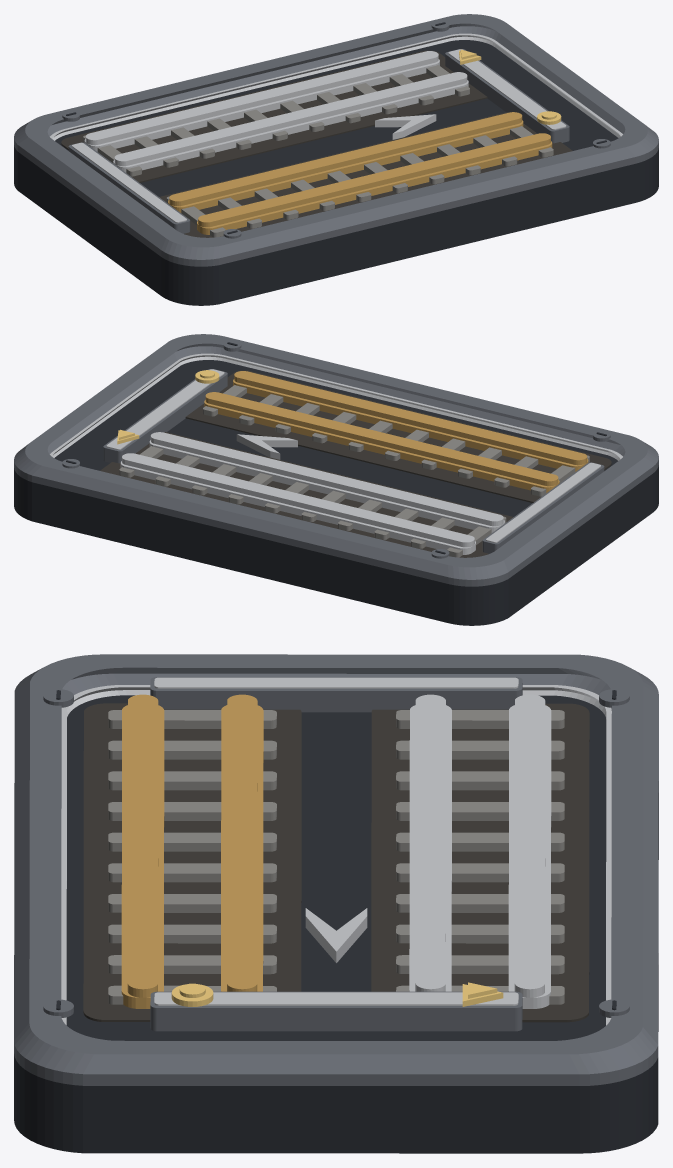
The model's file is two_tracks.glb.
The picture shows the model from 3 angles, top to bottom: view 1: azimuth 30°, elevation 25°; view 2: azimuth 150°, elevation 25°; view 3: azimuth 270°, elevation 25°; orthographic projection. The views are drawn at different scales.
Parts seen in each view (by area): view 1: TT_Body, TT_BeamEnd, TT_BeamEndCap, TT_Rail_Hike_A0, TT_Ballast_Climb, TT_Tie_Climb_0, TT_Cap_Climb0; view 2: TT_Body, TT_BeamEnd, TT_BeamEndCap, TT_Rail_Hike_A0, TT_Ballast_Climb, TT_Tie_Climb_0, TT_Cap_Climb0; view 3: TT_BeamEnd, TT_Body, TT_Ballast_Climb, TT_BeamEndCap, TT_Tie_Climb_0, TT_Rail_Hike_A0, TT_Cap_Climb0.
Boxes of the visible parts, <box> form: TT_Body: <box>14,22,658,305</box>; TT_BeamEnd: <box>14,14,658,266</box>; TT_BeamEndCap: <box>50,33,622,222</box>; TT_Rail_Hike_A0: <box>168,112,552,234</box>; TT_Ballast_Climb: <box>61,50,572,237</box>; TT_Tie_Climb_0: <box>83,65,553,237</box>; TT_Cap_Climb0: <box>459,49,561,124</box>; TT_Body: <box>14,342,658,625</box>; TT_BeamEnd: <box>14,334,658,586</box>; TT_BeamEndCap: <box>50,353,622,554</box>; TT_Rail_Hike_A0: <box>204,371,588,492</box>; TT_Ballast_Climb: <box>100,370,611,557</box>; TT_Tie_Climb_0: <box>119,385,589,557</box>; TT_Cap_Climb0: <box>117,370,219,444</box>; TT_BeamEnd: <box>14,654,658,1085</box>; TT_Body: <box>14,690,658,1153</box>; TT_Ballast_Climb: <box>83,703,589,1022</box>; TT_BeamEndCap: <box>61,677,611,1025</box>; TT_Tie_Climb_0: <box>108,710,564,1004</box>; TT_Rail_Hike_A0: <box>121,694,263,1008</box>; TT_Cap_Climb0: <box>171,982,503,1006</box>.
Bounding box in the file's own units: 0.0394 × 0.00454 × 0.026.
